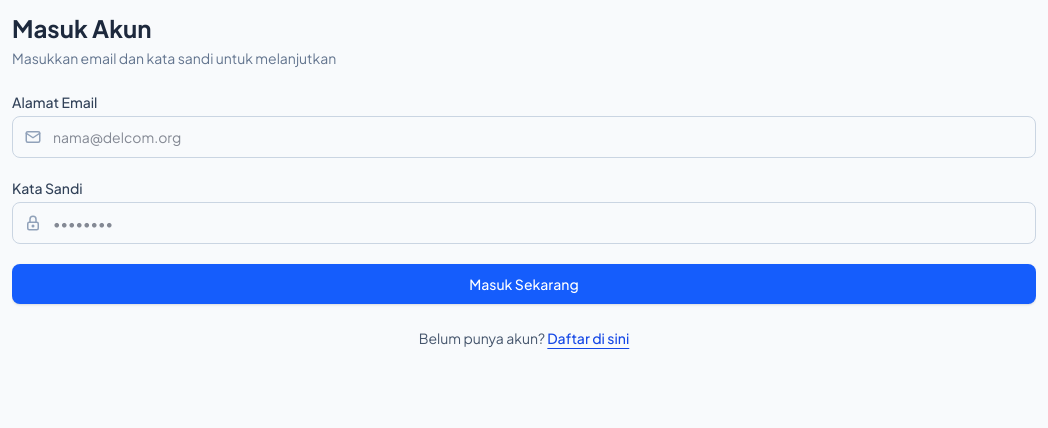
Test: LoginPage › should validate empty email
What coordinates should you click on to do the following:
click the button with id "login-submit-button"
I would click on:
 (524, 284)
Its box is [12,264,1036,304].
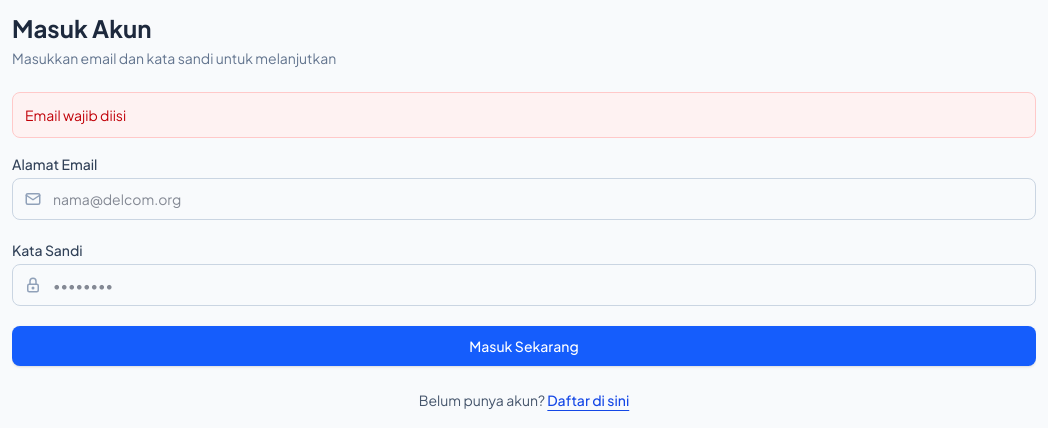
Expected: the message reads "Email wajib diisi", [25,106,126,124]
